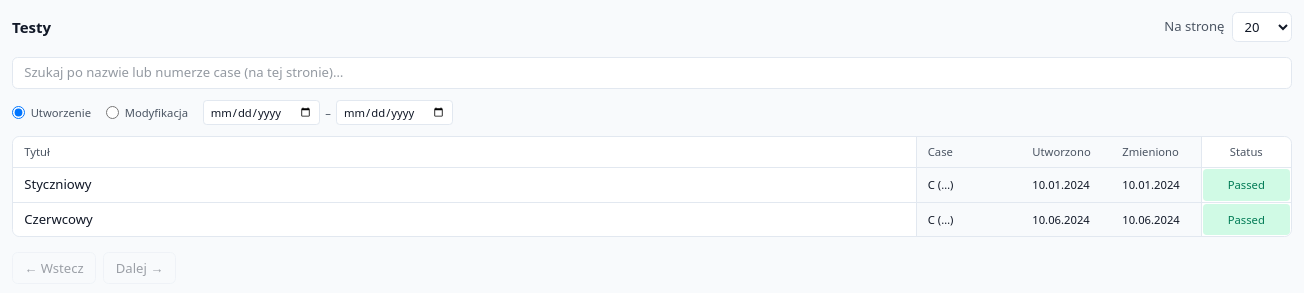
Test: TestList › filtruje po zakresie daty utworzenia
The width and height of the screenshot is (1304, 293).
domyślnie radio jest na "Utworzenie"
In the date field with test id "filter-date-from": (261, 112) [203,100,320,125], type "2024-05-01"
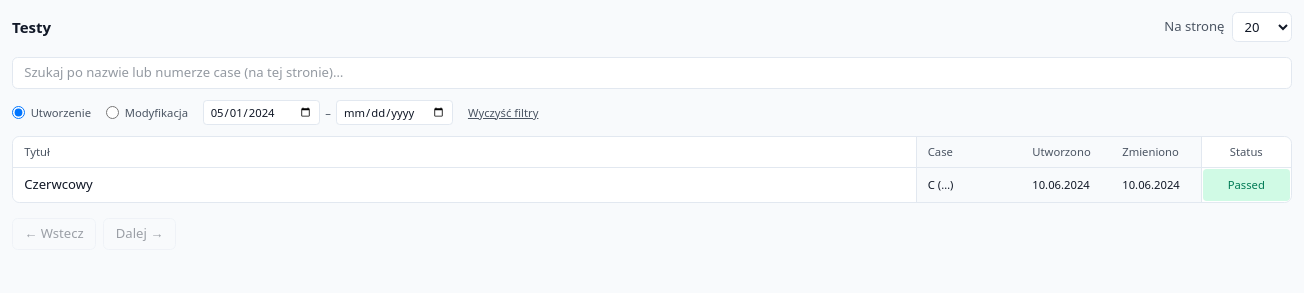
Expected: the row with test id "test-item" shows "Czerwcowy", [24,175,93,193]
Expected: the number of rows with test id "test-item" is 1, [13,167,1291,202]
